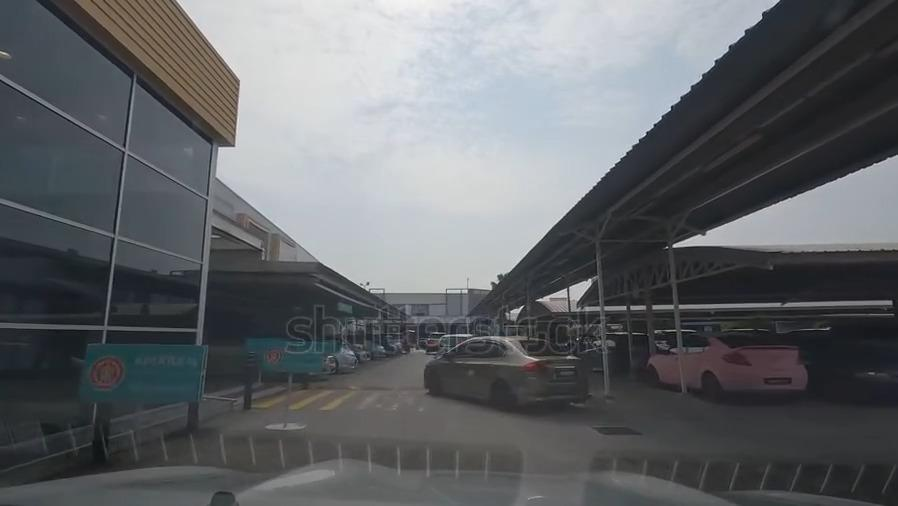car: (425, 336, 583, 404), (645, 335, 803, 395), (805, 328, 898, 398), (439, 332, 466, 350), (428, 329, 439, 350)
manhole: (592, 418, 643, 440)
pedestrian: (250, 395, 571, 417)
speedbump: (317, 383, 431, 394)
wheel: (489, 379, 515, 414), (426, 368, 440, 395)
